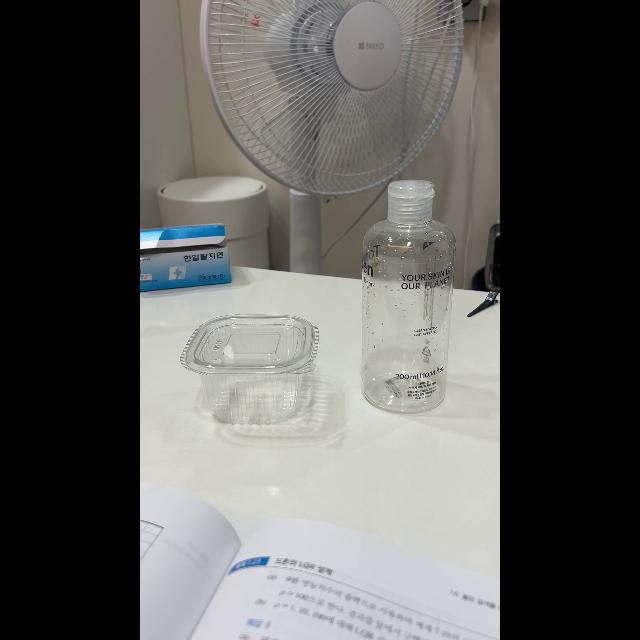clean: (360, 183, 456, 404), (180, 314, 320, 424)
